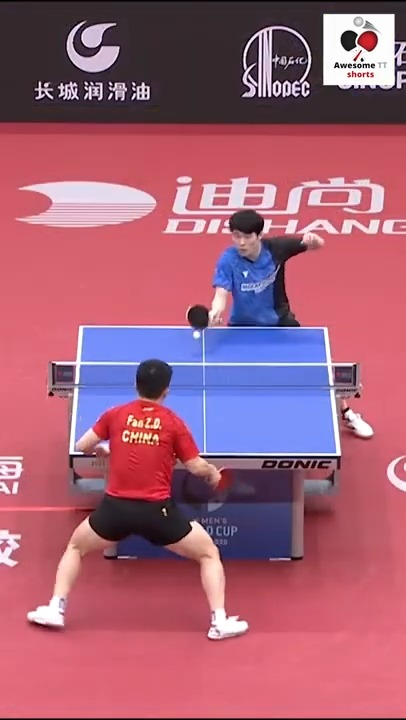Ball: (192, 331, 203, 342)
